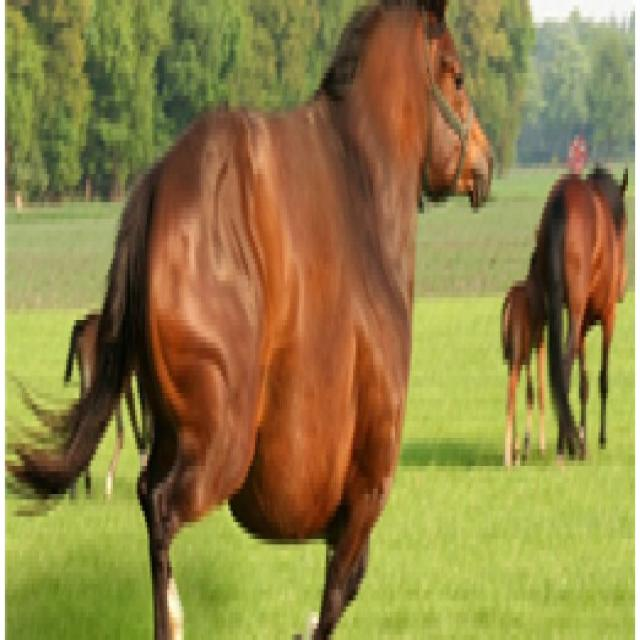Horse: (78, 10, 498, 640), (534, 159, 633, 452)
